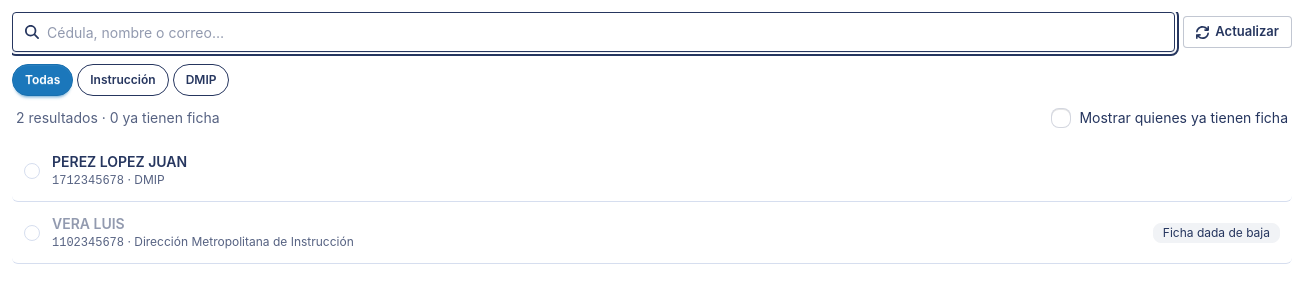
PasoBuscarPersona · elegir del directorio (rediseño 2026-10-08) › filtra por la búsqueda
This screenshot has width=1304, height=281.
Type "vera" into the search field named "Buscar en el directorio de Auth".
click(605, 32); type("vera")  # box [47,13,1162,51]
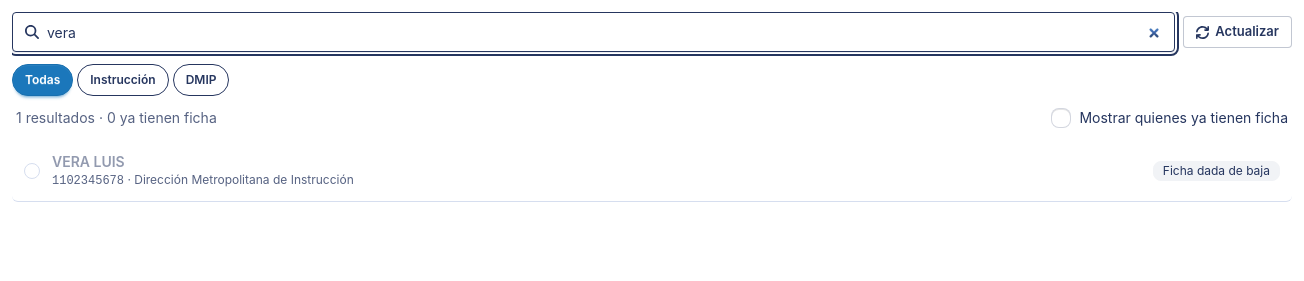
Expected: the text "VERA LUIS" is shown, [52,153,125,170]
Expected: the button "PEREZ LOPEZ JUAN" is gone
